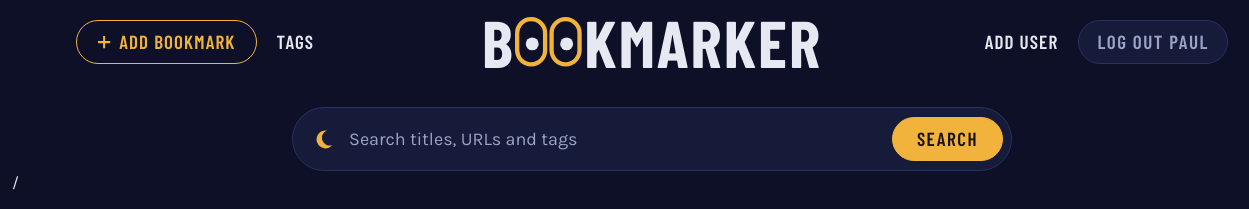
Test case: Header › logs out and returns to the login page
Click the button "Log out paul" at (1153, 42), box left=1078, top=20, right=1228, bottom=64
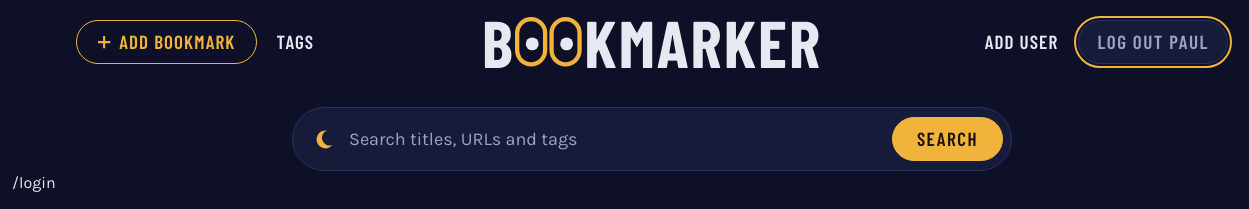
Now the text with test id "location" reads "/login", box left=12, top=173, right=56, bottom=192
